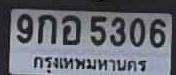0: (130, 18, 145, 47)
3: (110, 16, 126, 45)
5: (90, 16, 106, 46)
6: (150, 18, 166, 47)
9: (16, 14, 32, 43)
A01: (37, 15, 56, 44)
A43: (62, 15, 81, 44)
BKK: (30, 54, 148, 74)
